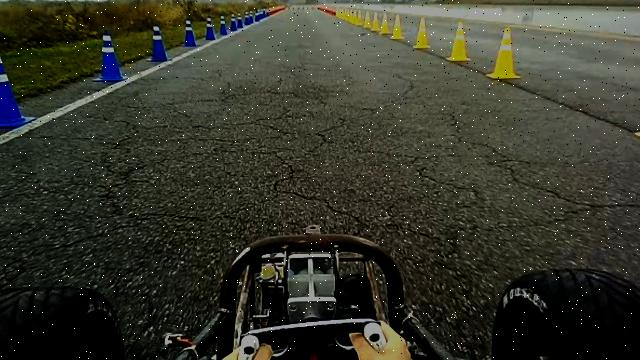blue cone: (0, 44, 36, 130), (92, 29, 126, 82), (146, 23, 169, 62), (182, 18, 197, 47), (204, 16, 216, 40), (219, 15, 228, 36), (230, 12, 238, 31), (236, 11, 244, 29), (244, 10, 253, 25)
yellow cone: (486, 26, 521, 80), (446, 20, 470, 62), (412, 16, 430, 49), (390, 13, 404, 40), (380, 12, 390, 34), (501, 26, 512, 46), (370, 12, 380, 32), (363, 11, 372, 28), (355, 10, 363, 26), (348, 10, 356, 24)
